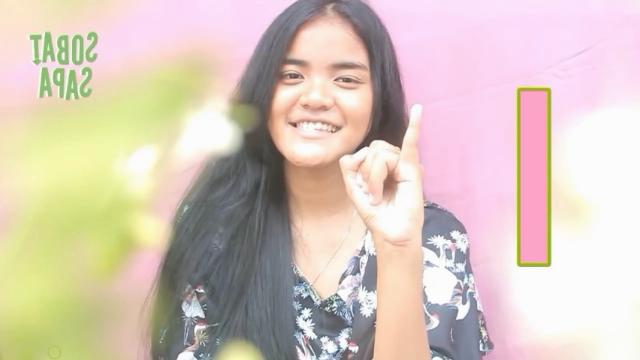I: (338, 103, 432, 244)
